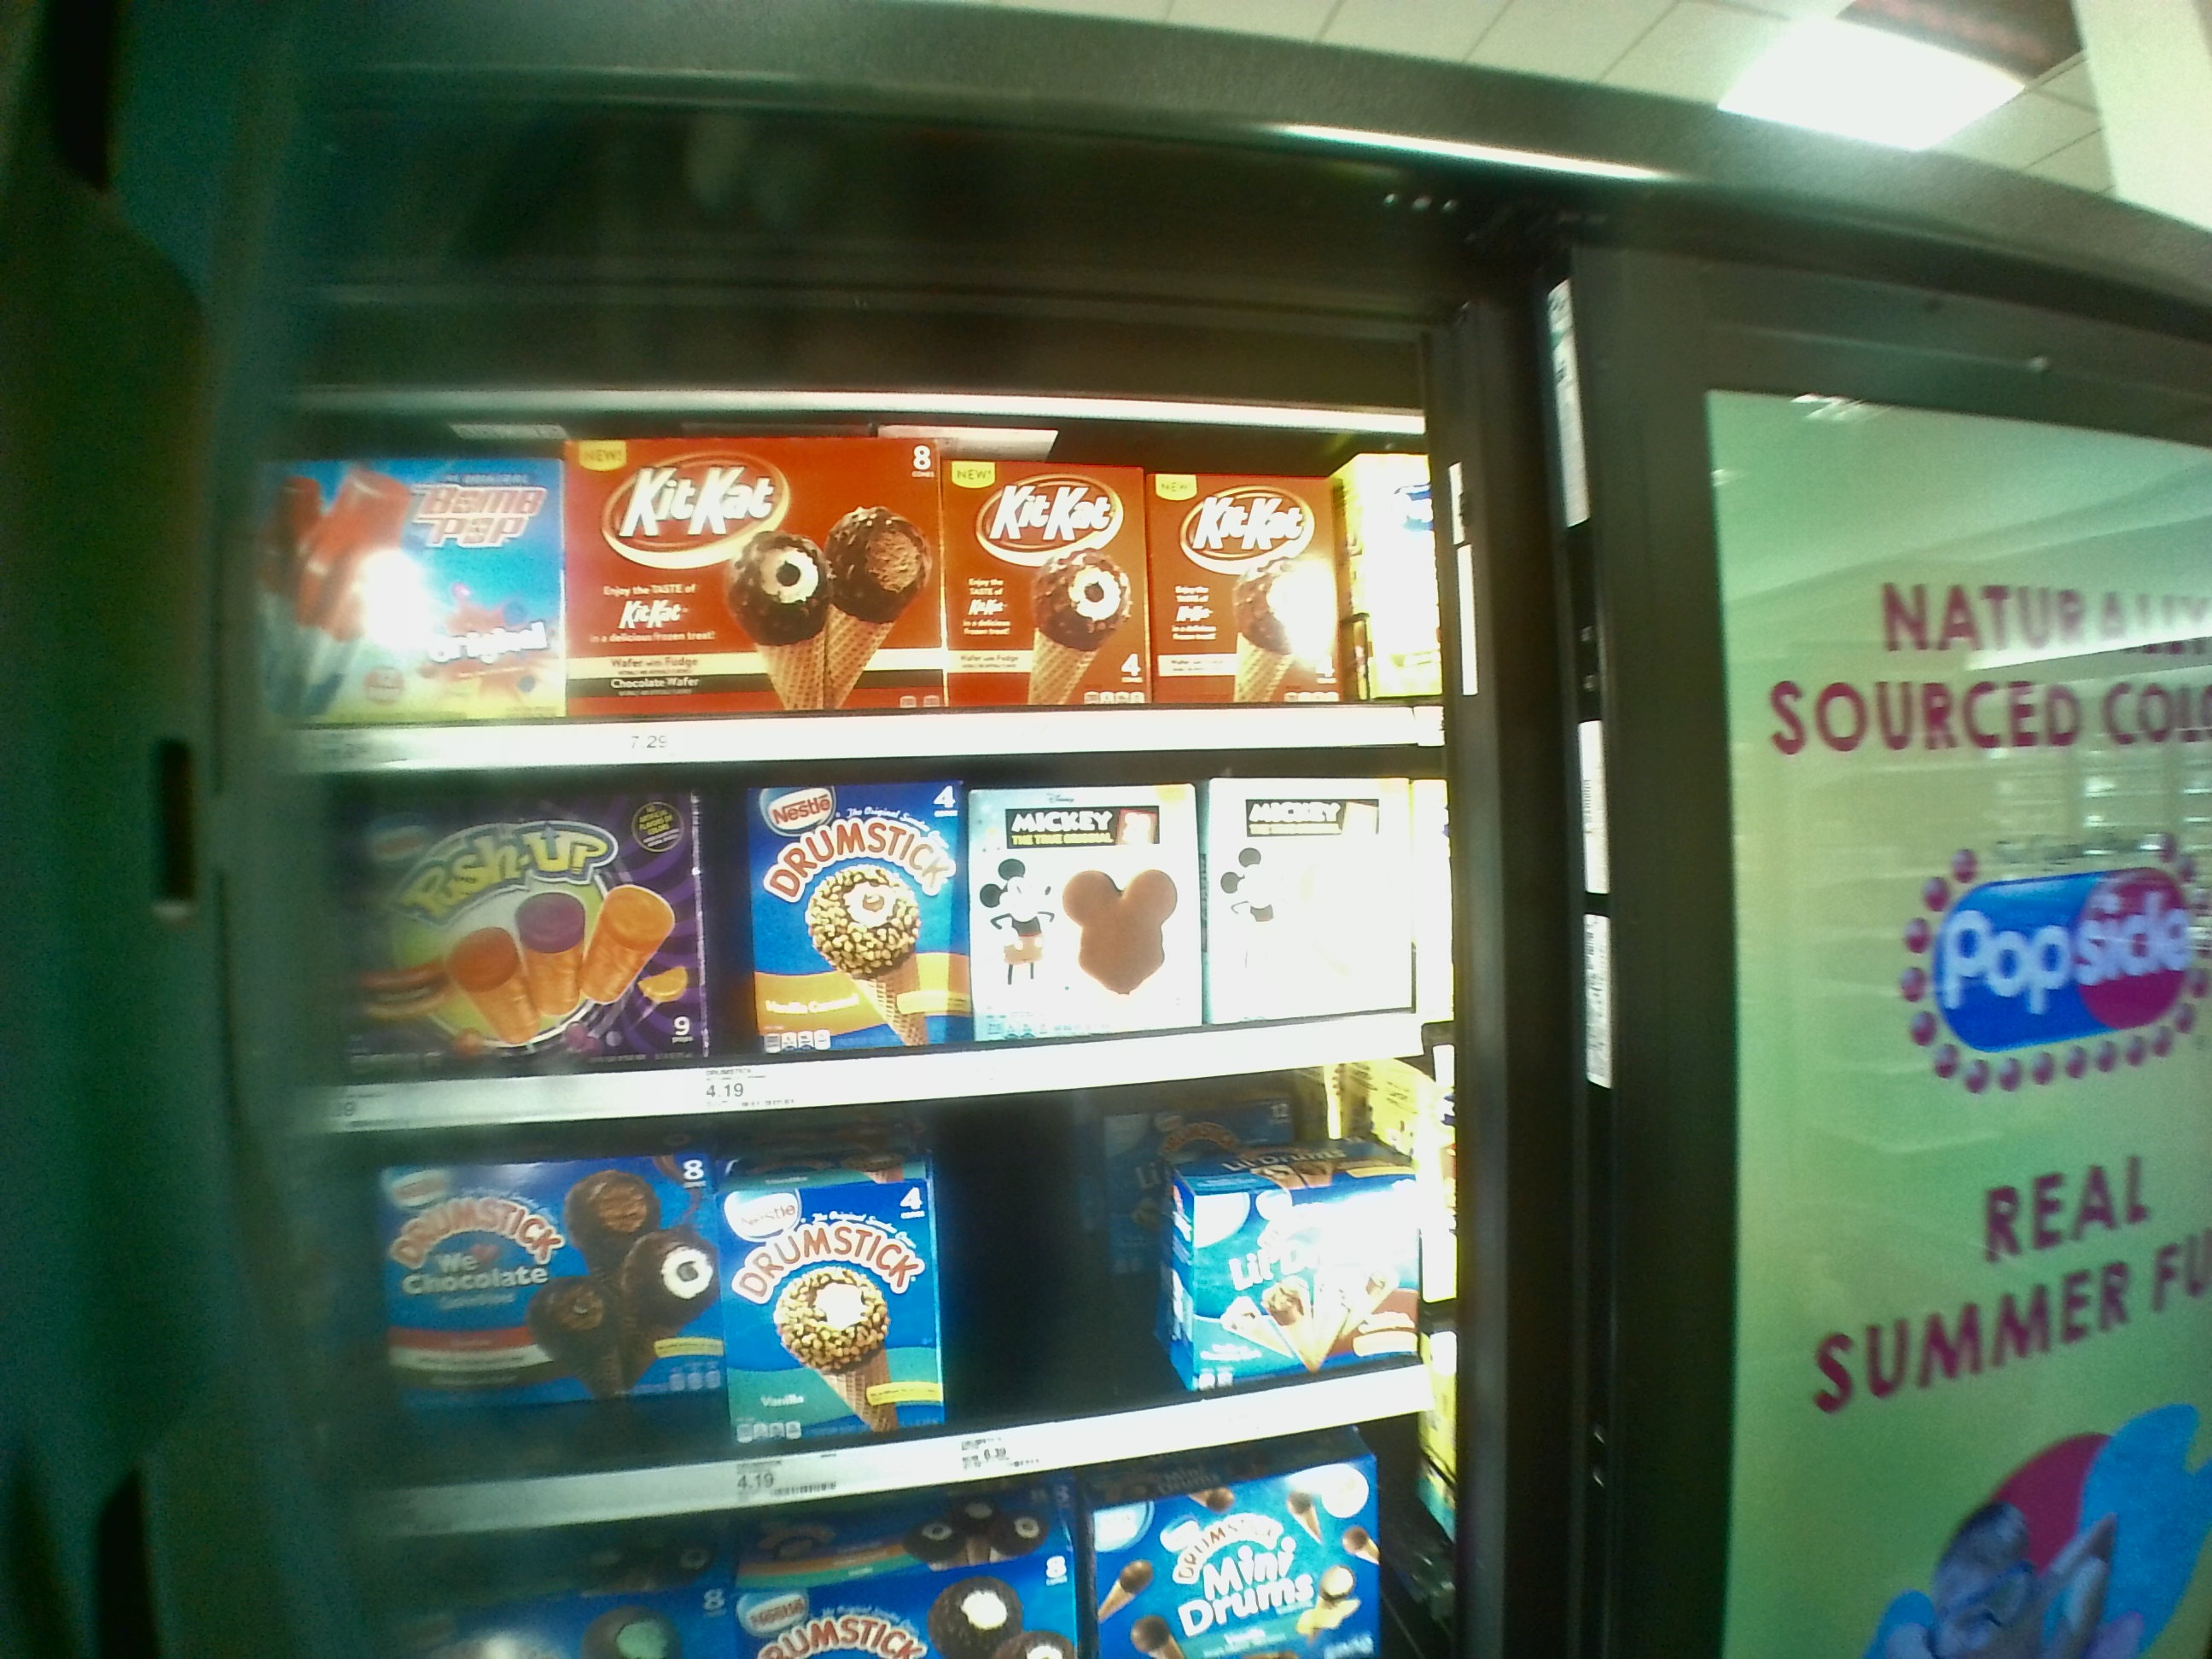shelf: (340, 1100, 1458, 1493), (261, 416, 1435, 760), (301, 762, 1446, 1112)
